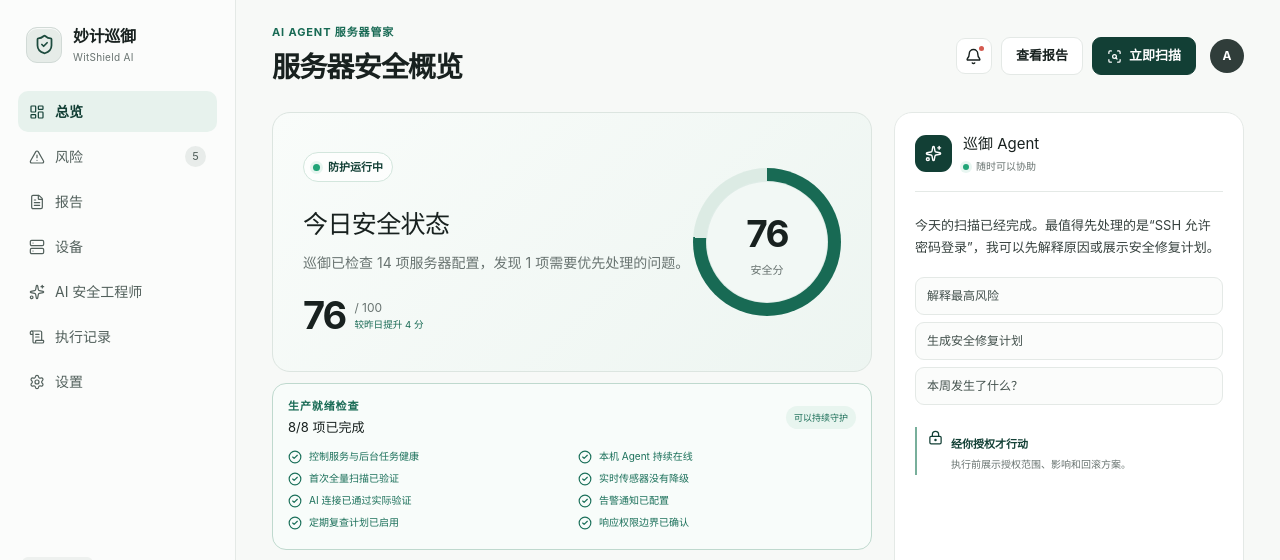
Test case: WitShieldApp › uses the configured AI assistant and returns an answer
Check: the heading "服务器安全概览" is shown, box x1=272 y1=46 x2=462 y2=88
What coordinates should you click on to do the following:
click the button "解释最高风险"
I would click on:
 (963, 296)
Its box is x1=915 y1=277 x2=1223 y2=315.
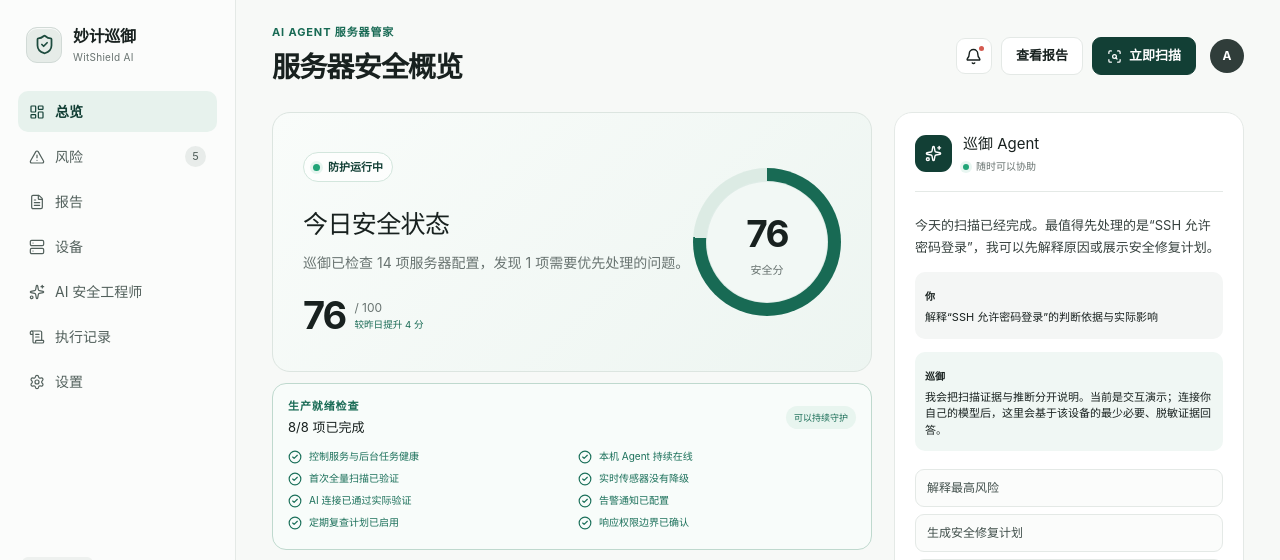
Check: the text "我会把扫描证据与推断分开说明。当前是交互演示；连接你自己的模型后，这里会基于该设备的最少必要、脱敏证据回答。" is shown, box x1=925 y1=388 x2=1213 y2=438
